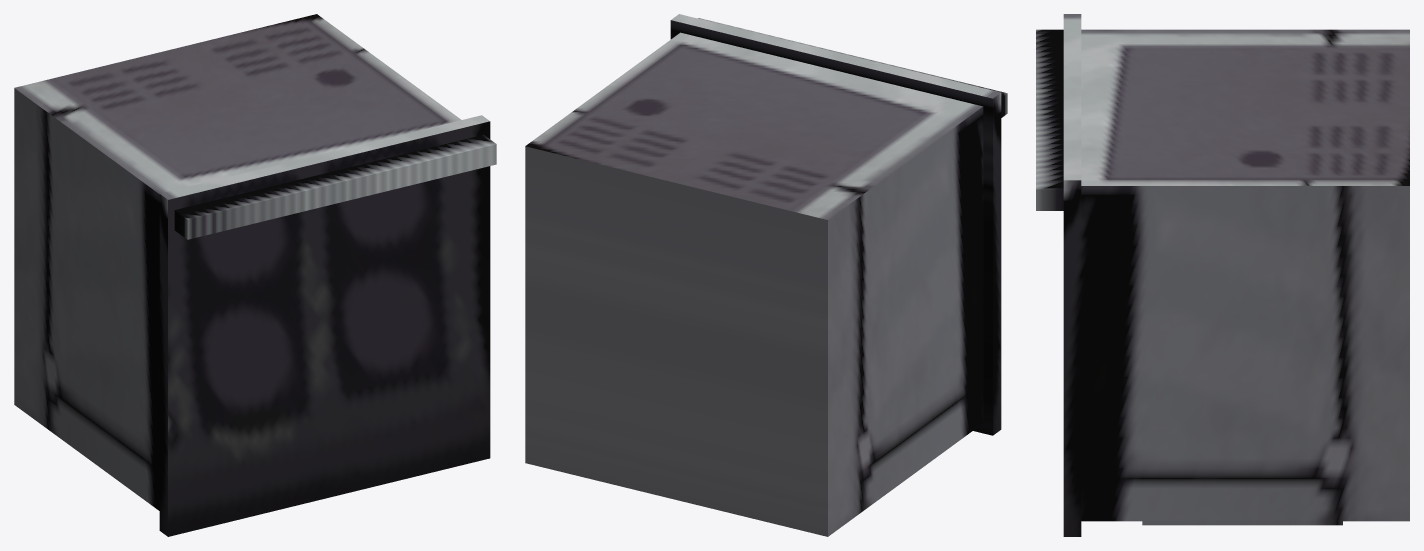
The model's file is pz_stove_grey.obj.
3 views of the same model, side by side, from view 1: azimuth 30°, elevation 25°; view 2: azimuth 150°, elevation 25°; view 3: azimuth 270°, elevation 25° (orthographic). The views are drawn at different scales.
Bounding box in the file's own units: 1 × 1 × 0.95.
Materials: 1 (1 with a texture image).
